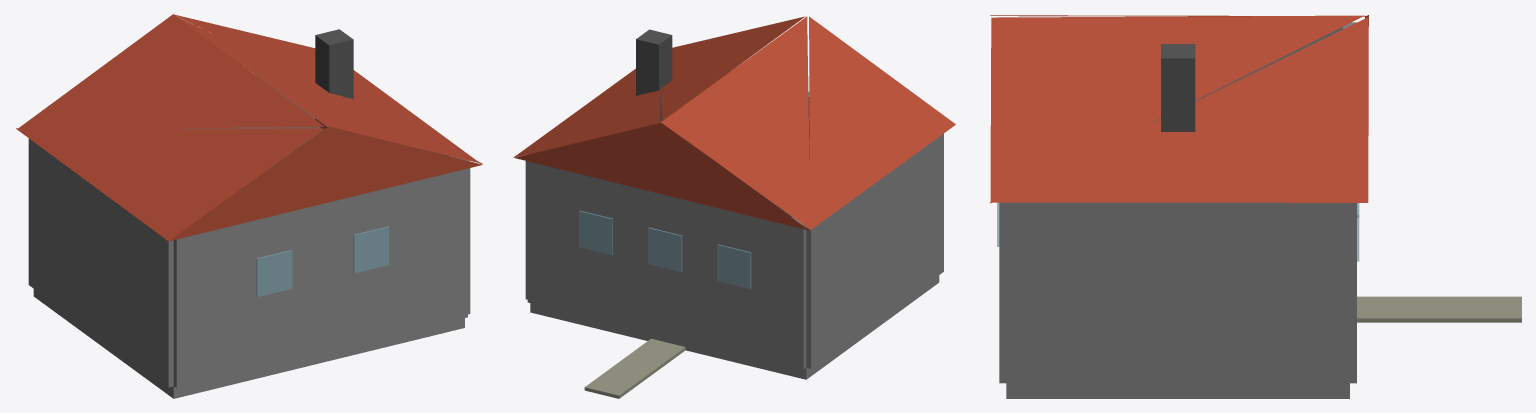
Rendered from mansion_t2.glb.
3 views of the same model, side by side, from view 1: azimuth 30°, elevation 25°; view 2: azimuth 150°, elevation 25°; view 3: azimuth 270°, elevation 25° (orthographic). The views are drawn at different scales.
Visible parts, largest first — view 1: building-mansion, window (×2); view 2: building-mansion, window (×3); view 3: building-mansion.
Part boxes in pixels (box(x1,y1,x2,y2)): building-mansion: box(16, 14, 482, 398); window (×2): box(256, 226, 389, 296); building-mansion: box(513, 16, 955, 398); window (×3): box(579, 210, 751, 288); building-mansion: box(989, 15, 1521, 398).
Size of the model in its own units: 0.1891 by 0.1452 by 0.2259.
